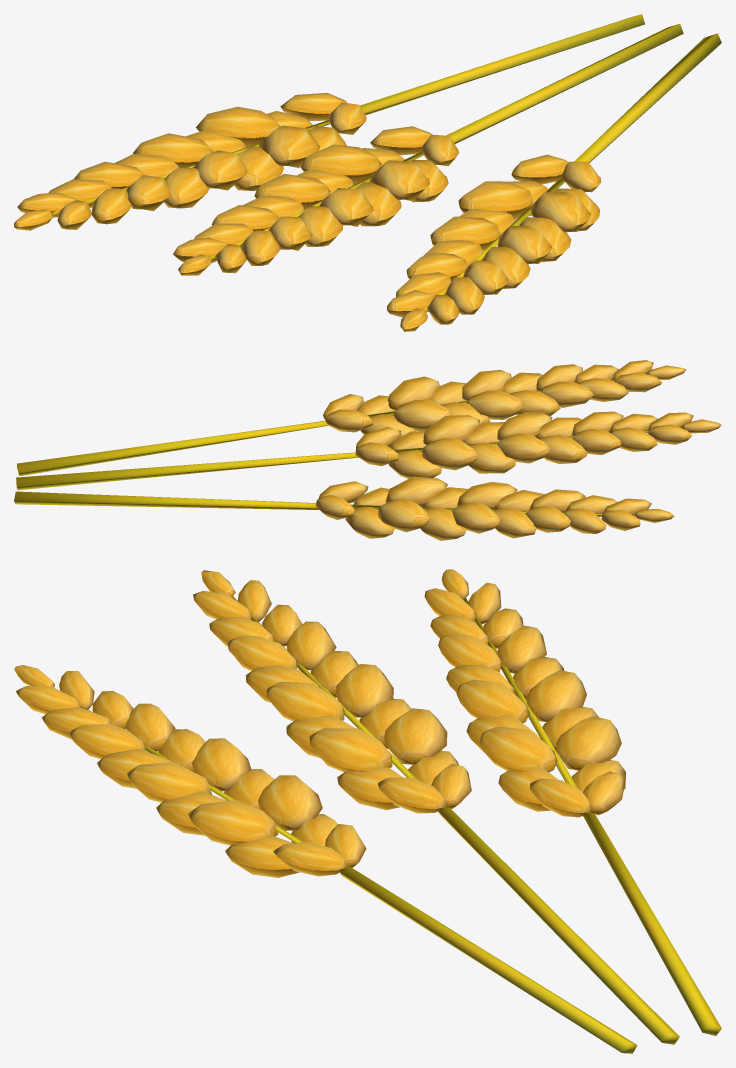
The model's file is NP_Wheat_Harvest_LOD1.fbx.
3 renders of one model, top to bottom at view 1: azimuth 30°, elevation 25°; view 2: azimuth 150°, elevation 25°; view 3: azimuth 270°, elevation 25°, orthographic. The views are drawn at different scales.
Visible parts, largest first — view 1: NP_Wheat_Harvest; view 2: NP_Wheat_Harvest; view 3: NP_Wheat_Harvest.
Part boxes in pixels (x1,y1,x2,y2): NP_Wheat_Harvest: (14, 14, 721, 331); NP_Wheat_Harvest: (14, 360, 721, 540); NP_Wheat_Harvest: (14, 569, 721, 1053).
Bounding box in the file's own units: 66.43 × 8.31 × 48.52.
